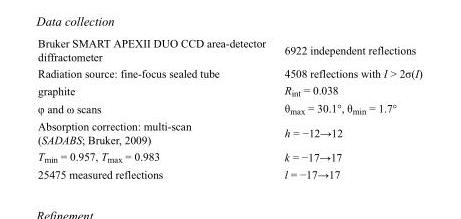table: (37, 36, 421, 180)
table column: (37, 36, 274, 180), (274, 36, 421, 180)
table row: (37, 117, 421, 147), (37, 36, 421, 64), (37, 81, 421, 99), (37, 99, 421, 117), (37, 147, 421, 165), (37, 64, 421, 81), (37, 165, 421, 180)
